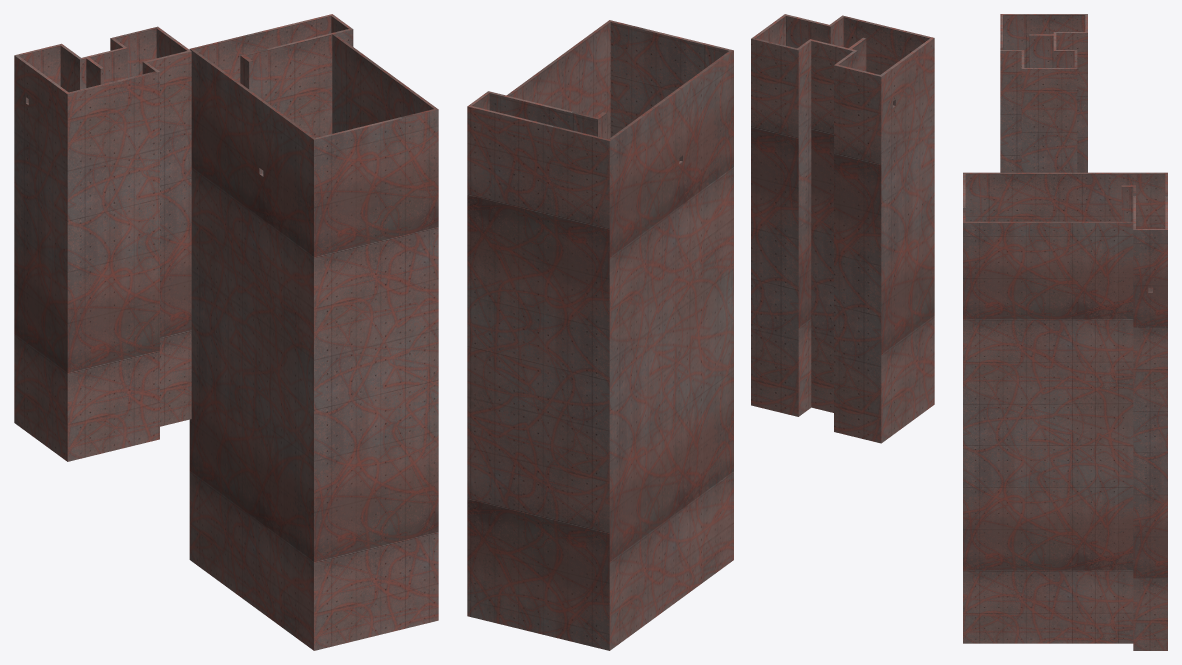
Rendered from P3_walls.fbx.
3 views of the same model, side by side, from view 1: azimuth 30°, elevation 25°; view 2: azimuth 150°, elevation 25°; view 3: azimuth 270°, elevation 25° (orthographic). The views are drawn at different scales.
Visible parts, largest first — view 1: p3_walls; view 2: p3_walls; view 3: p3_walls.
Part boxes in pixels (bbox=[...]): p3_walls: bbox=[14, 14, 438, 650]; p3_walls: bbox=[467, 14, 934, 650]; p3_walls: bbox=[963, 14, 1167, 650].
Bounding box in the file's own units: 1310 × 2031 × 770.
